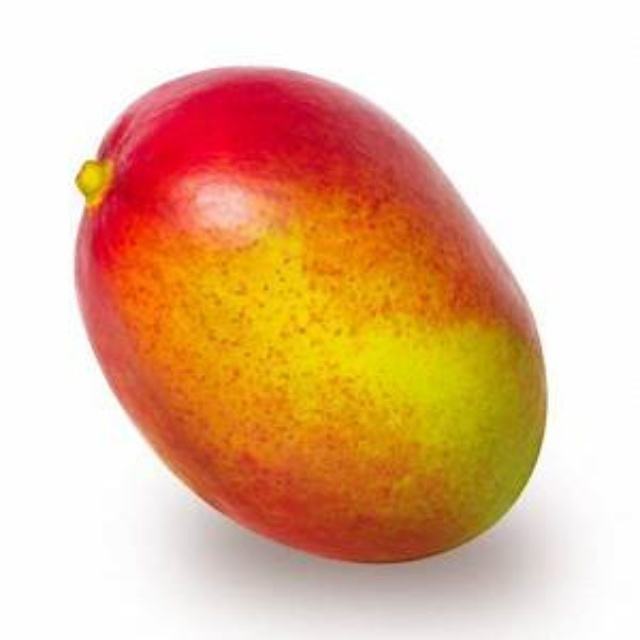mango: (70, 66, 551, 571)
